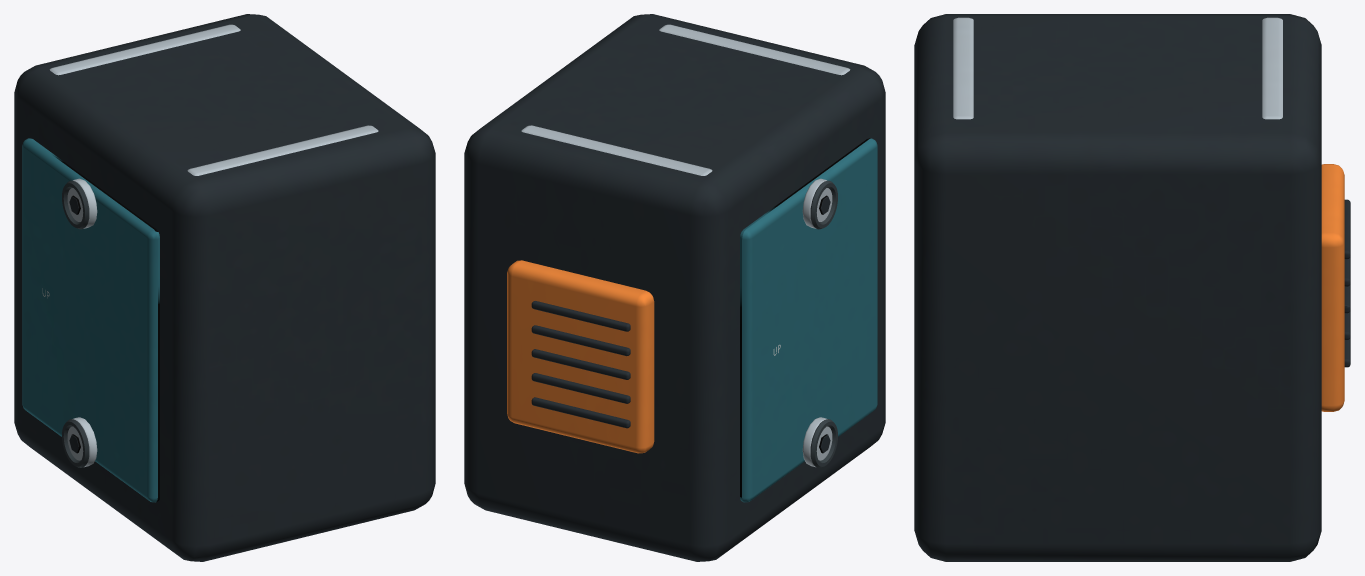
File: SM_RoadMonitorMount_V2_UE.fbx
The picture shows the model from 3 angles, left to right: view 1: azimuth 30°, elevation 25°; view 2: azimuth 150°, elevation 25°; view 3: azimuth 270°, elevation 25°; orthographic projection. The views are drawn at different scales.
Visible parts, largest first — view 1: PR_UE_Export_Mount; view 2: PR_UE_Export_Mount; view 3: PR_UE_Export_Mount.
Part boxes in pixels (x1,y1,x2,y2): PR_UE_Export_Mount: (14, 14, 435, 561); PR_UE_Export_Mount: (464, 14, 885, 561); PR_UE_Export_Mount: (914, 14, 1350, 561).
Bounding box in the file's own units: 6.21 × 5.19 × 6.72.
